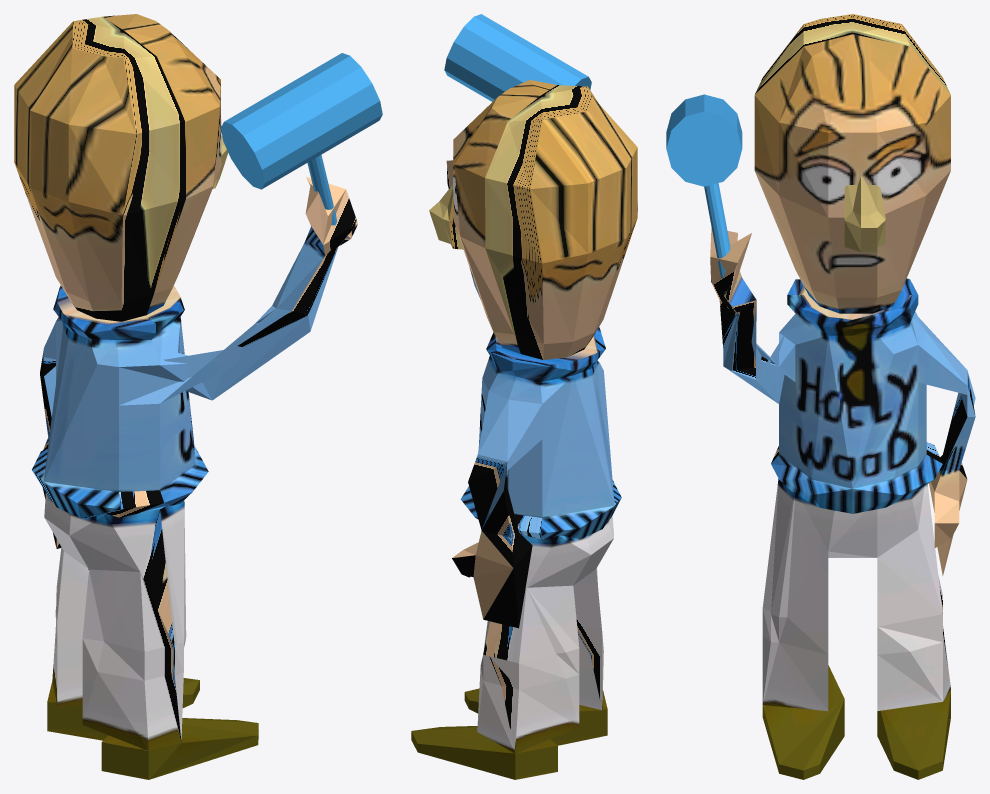
The model's file is piphamer.glb.
3 views of the same model, side by side, from view 1: azimuth 30°, elevation 25°; view 2: azimuth 150°, elevation 25°; view 3: azimuth 270°, elevation 25° (orthographic). The views are drawn at different scales.
Parts seen in each view (by area): view 1: piphamer; view 2: piphamer; view 3: piphamer.
Boxes of the visible parts, x1,y1,x2,y2 form: piphamer: [14, 14, 382, 779]; piphamer: [411, 14, 637, 779]; piphamer: [666, 14, 975, 779].
Size of the model in its own units: 44.5 by 116 by 46.08.
1 material, 1 textured.
